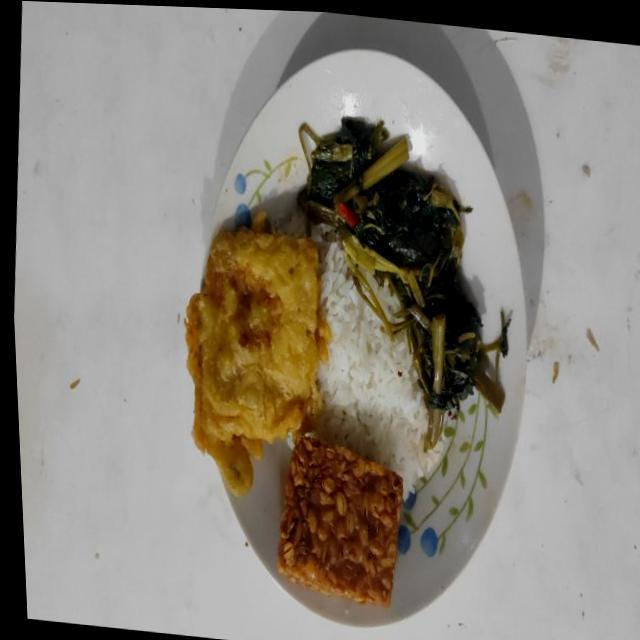nasi_putih: (310, 224, 444, 498)
tempe_goreng: (277, 435, 402, 607)
tumis_kangkung: (298, 116, 510, 452)
